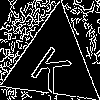K: (28, 37, 79, 94)
